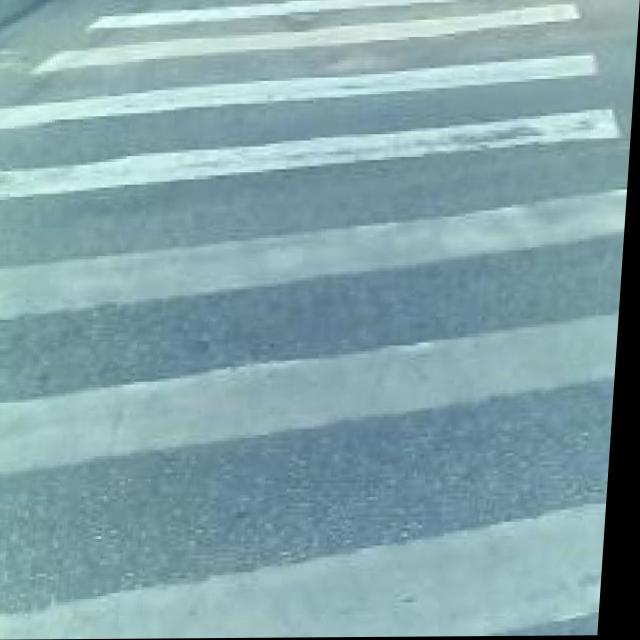zebra: (57, 1, 637, 639)
